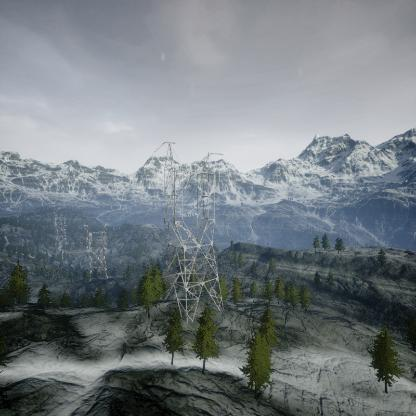tower: (154, 139, 231, 327), (80, 222, 110, 282)
